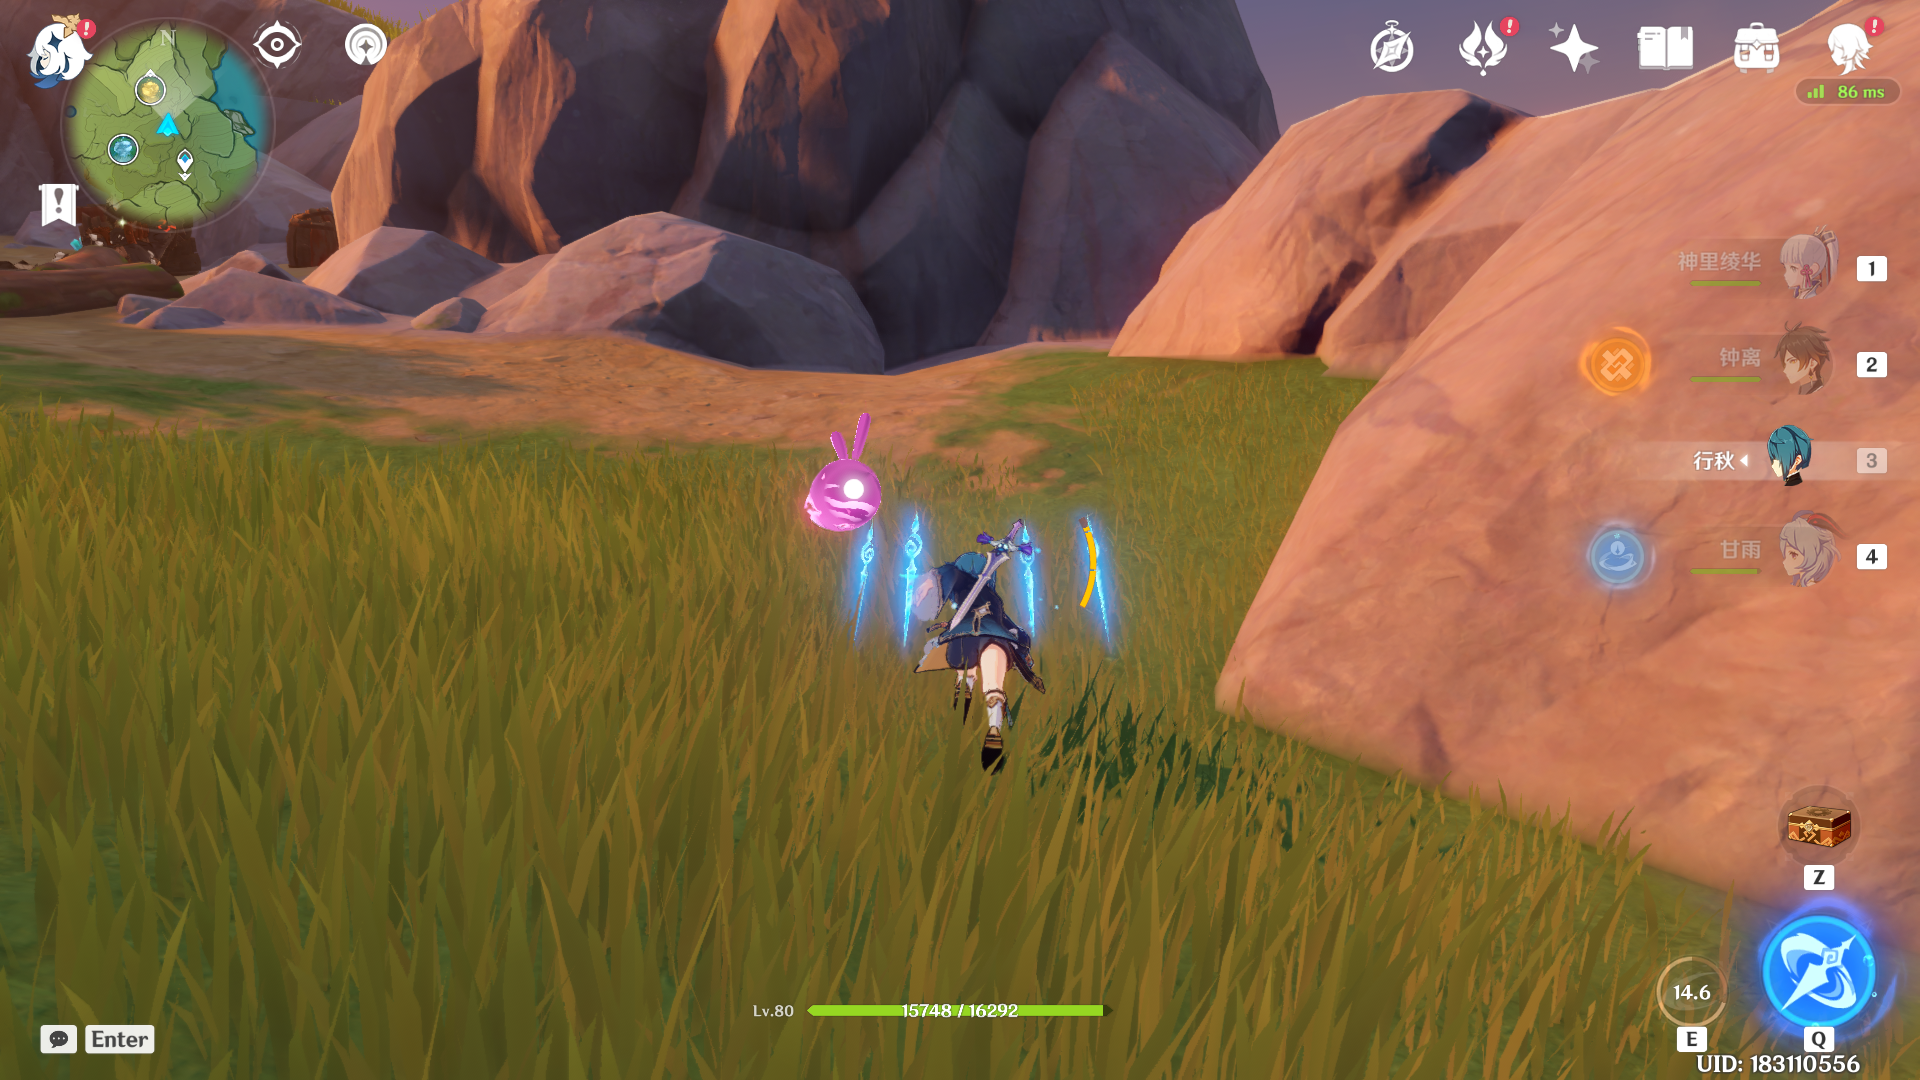character: (862, 495, 1083, 789)
